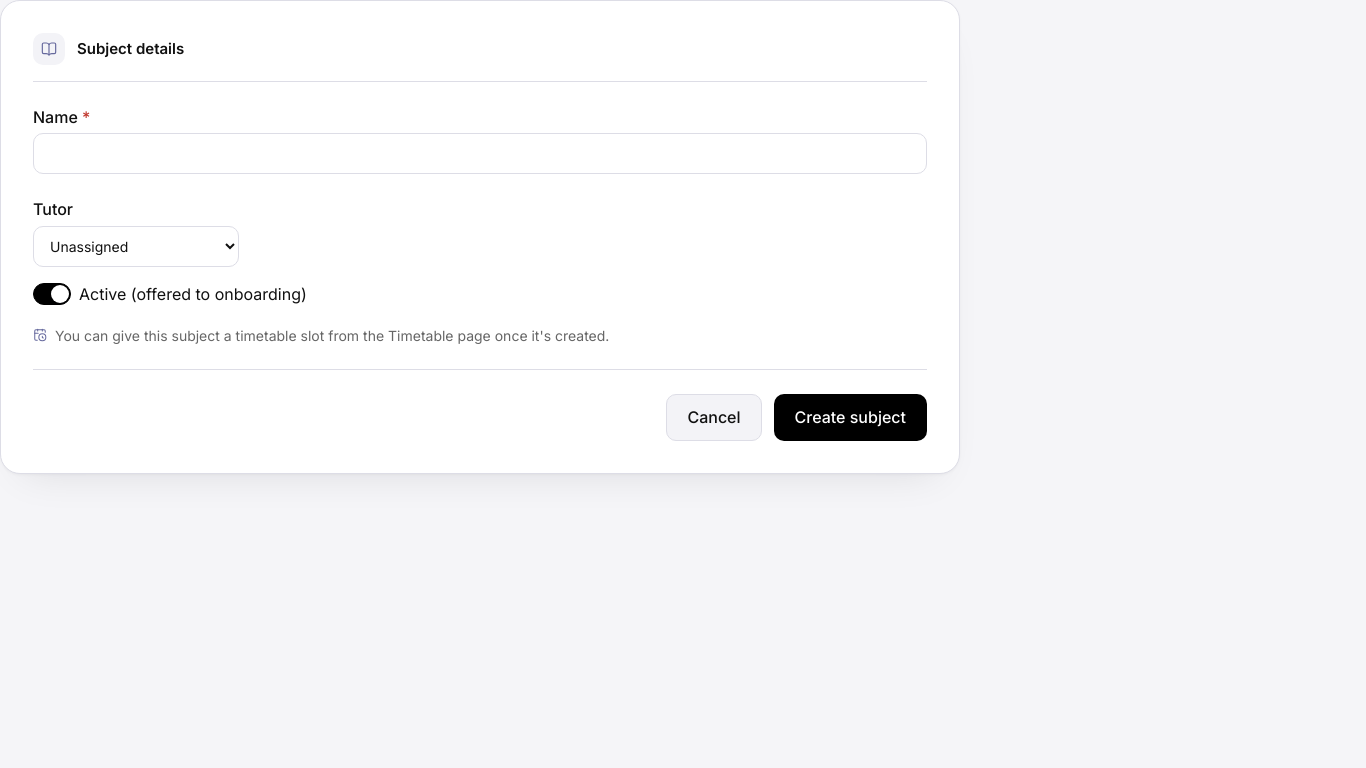
Test: SubjectCreatePage › shows a confirmation toast and navigates to the new subject on success
Type "Geography" into the field labelled "Name" at (480, 154), box [33,133,927,174]
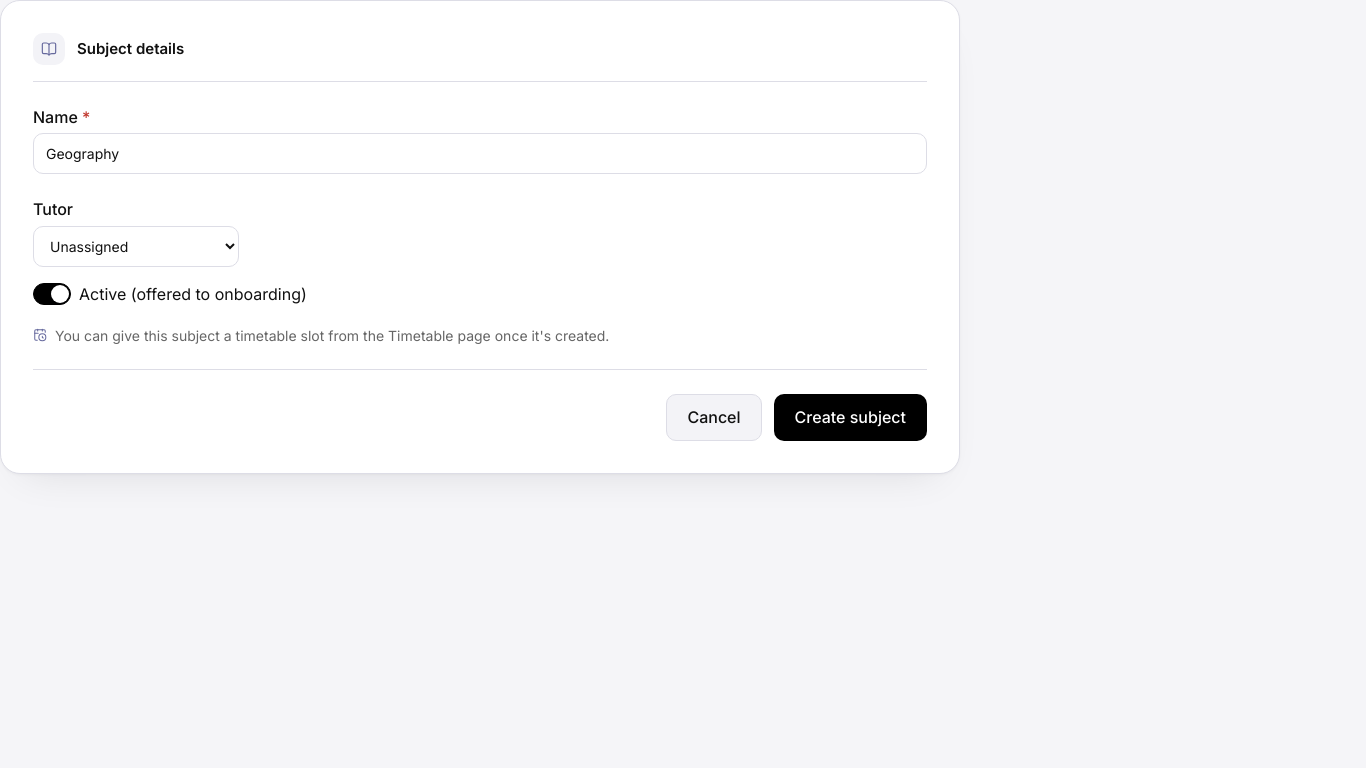
Click the button "Create subject" at (850, 418), box [774,394,927,441]
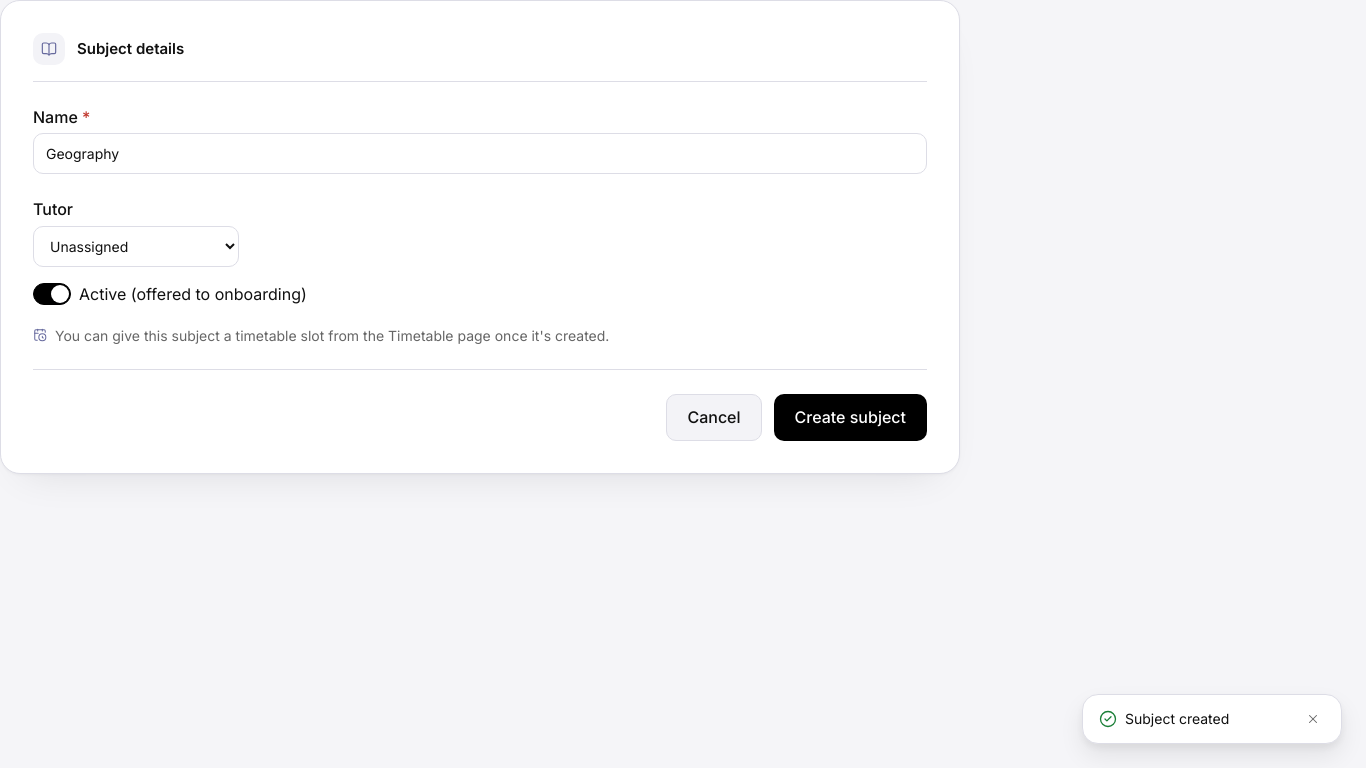
Now the text "Subject created" is shown, box [1125,710,1229,727]
